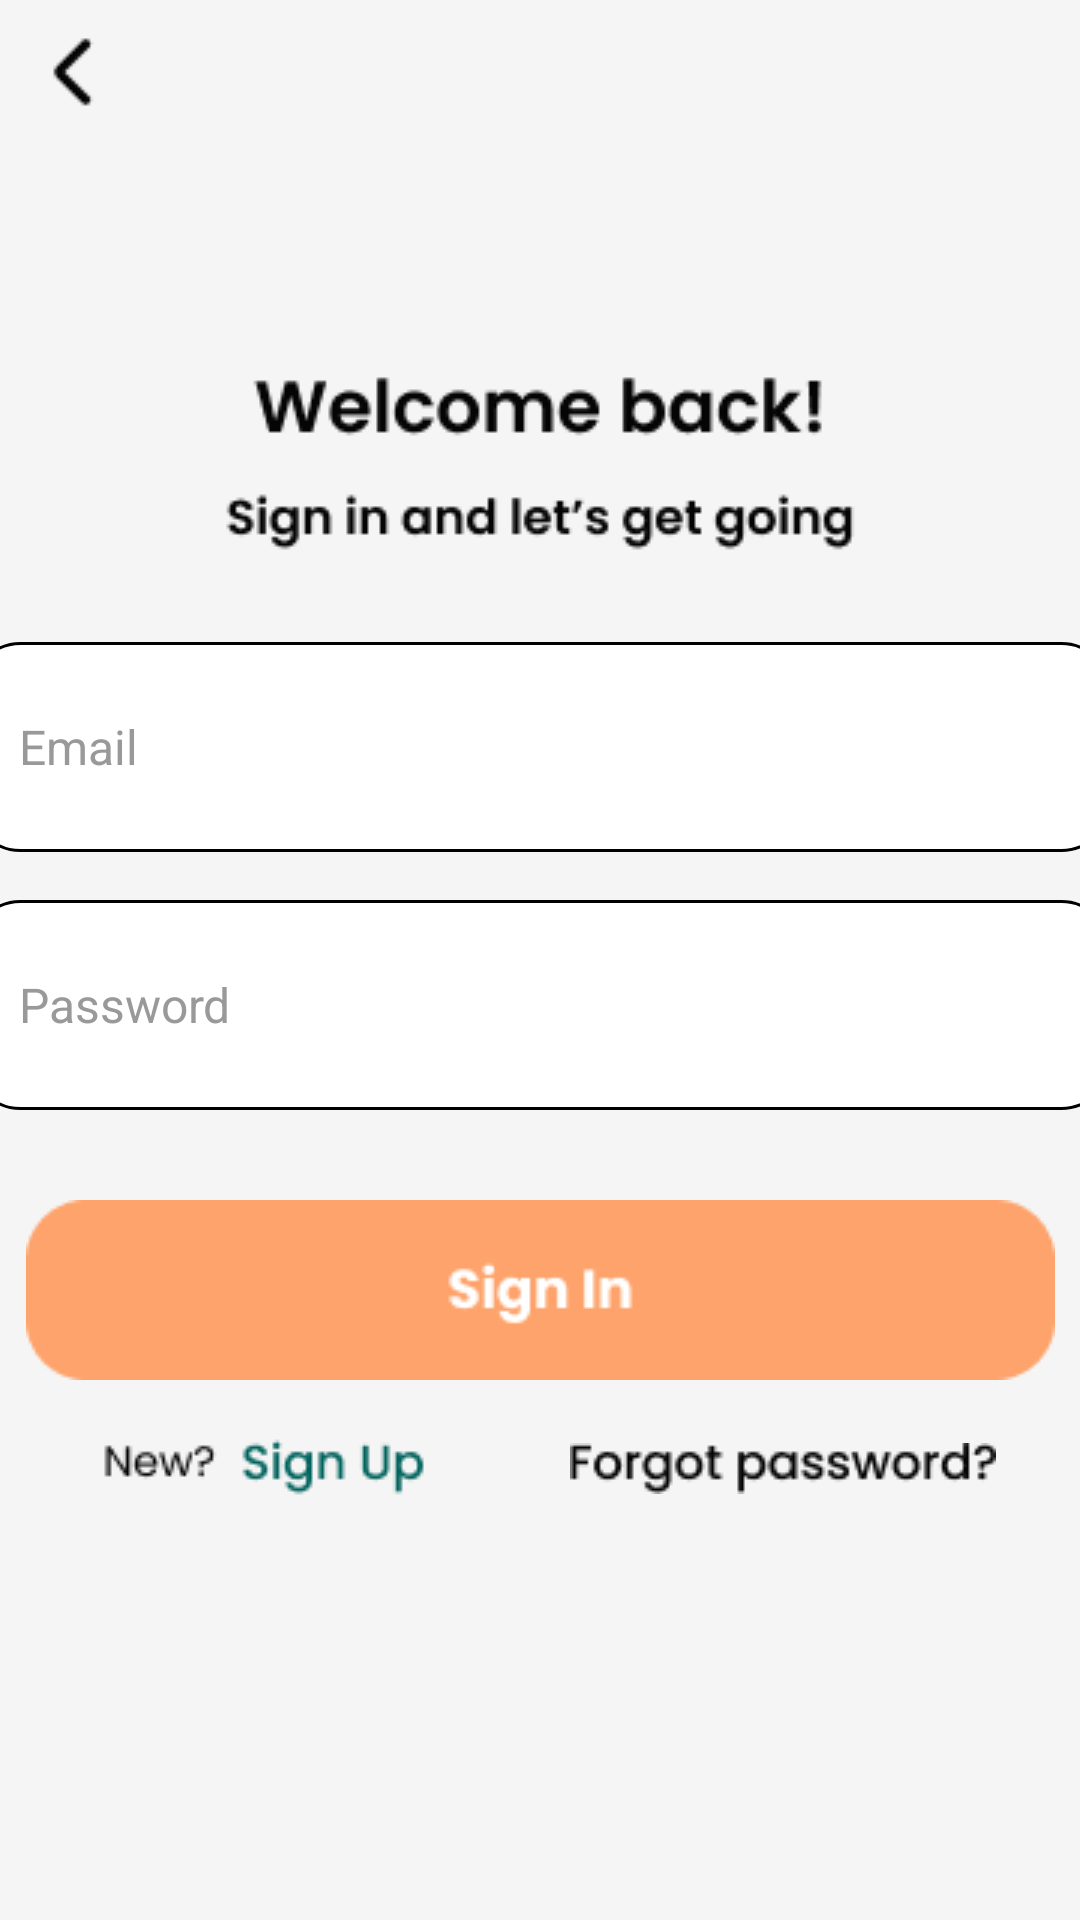

Locate icon controls on the screen. Image size 1080×1920, boxes as [x1,y1,x2,y2].
back: [53,38,92,106]
